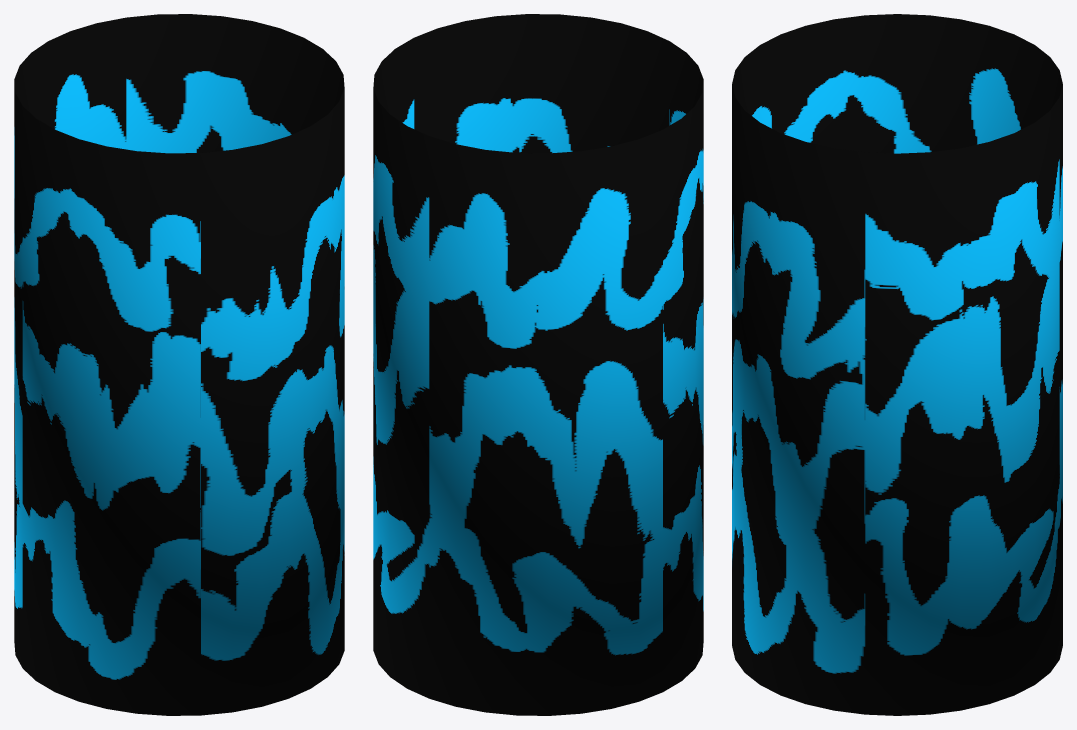
Rendered from suspensor.fbx.
The picture shows the model from 3 angles, left to right: view 1: azimuth 30°, elevation 25°; view 2: azimuth 150°, elevation 25°; view 3: azimuth 270°, elevation 25°; orthographic projection.
Parts seen in each view (by area): view 1: Cylinder; view 2: Cylinder; view 3: Cylinder.
Part boxes in pixels (box(x1,y1,x2,y2)): Cylinder: box(14, 14, 344, 715); Cylinder: box(373, 14, 703, 715); Cylinder: box(732, 14, 1062, 715).
Bounding box in the file's own units: 8 × 15 × 8.
